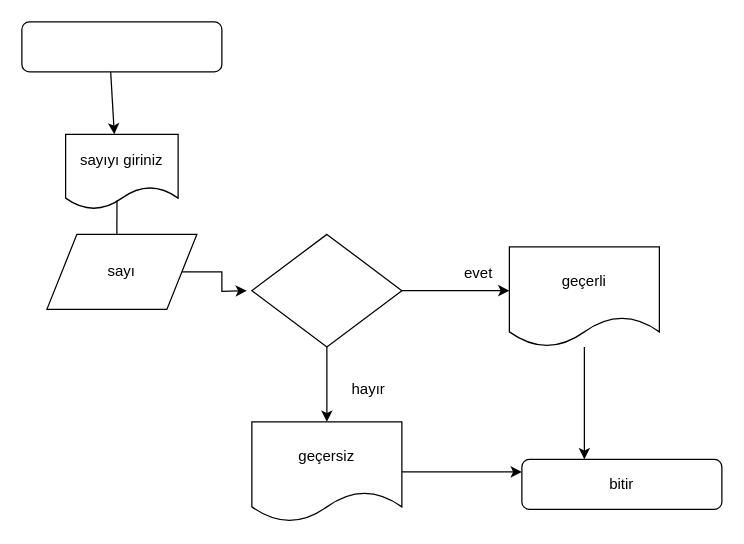
The diagram is 744 pixels wide and 544 high, and some of its shapes have lost their labels. The centre of each missing label's shape, as x and y in pixels:
"başla" goes at point (121, 46).
"sayi>=0&& sayi>=100" goes at point (326, 290).
